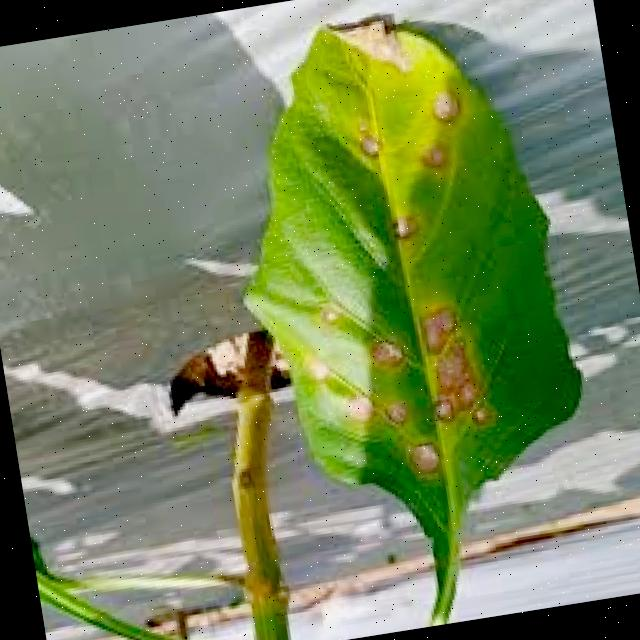leaf spot: (192, 0, 611, 550)
